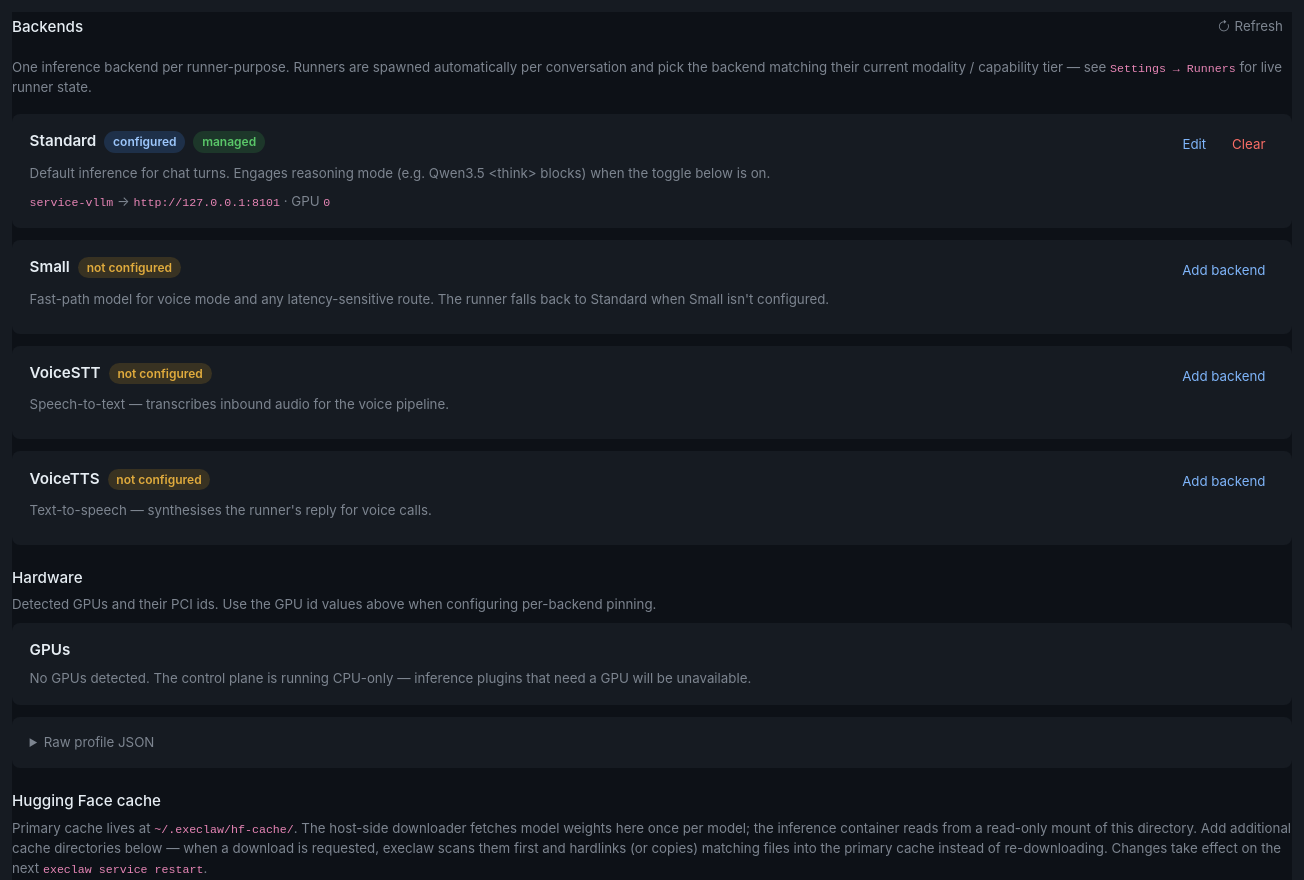
BackendsPage › editing an already-configured row goes straight to the raw form
Check: the text "managed" is shown, box [193,131,265,153]
# Click Edit on the configured Standard row.
Click the button with test id "backend-edit" showing "Edit".
click(1194, 145)  # box [1173,130,1215,160]
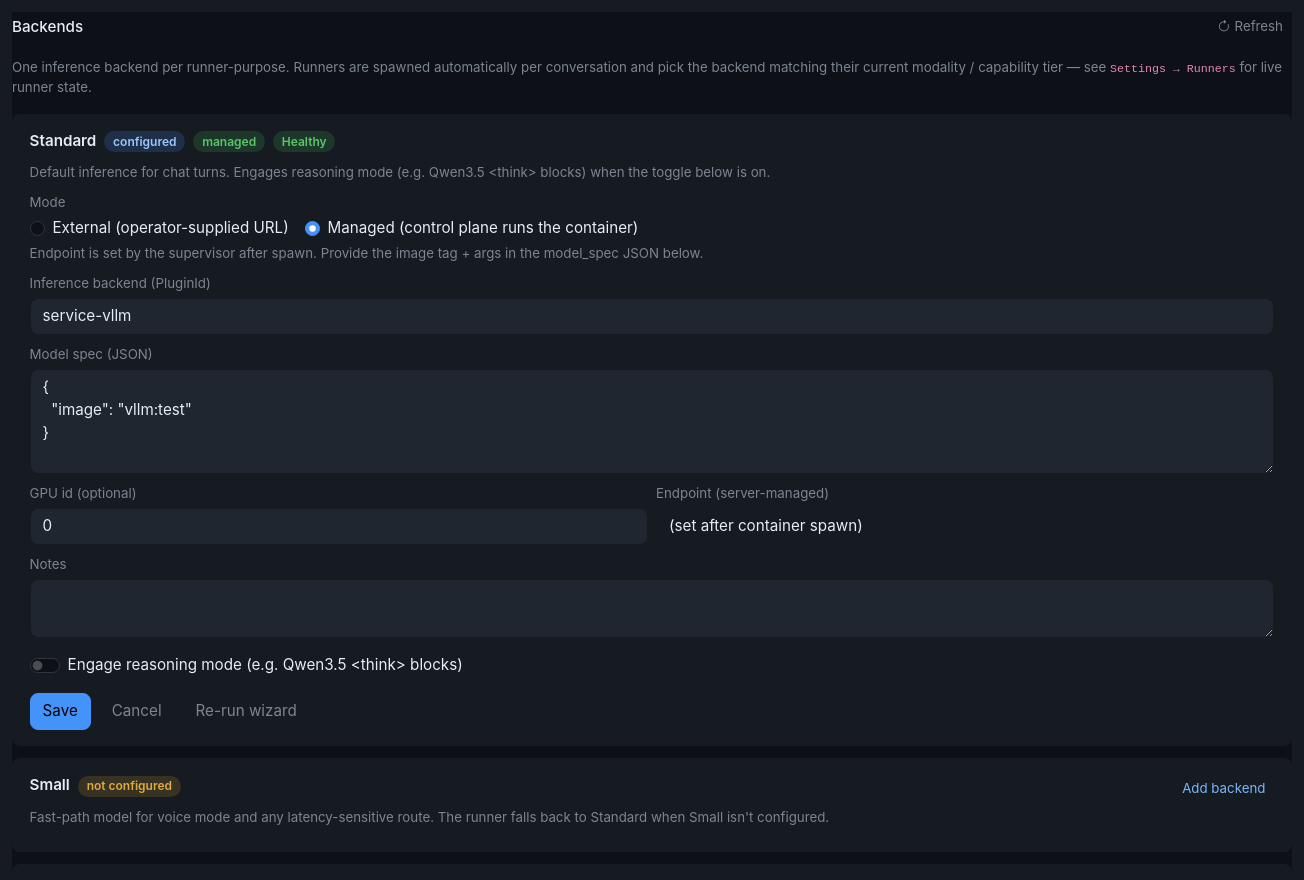
Check: the element with test id "backend-form" is shown, box [30,191,1274,730]
Check: the button with test id "backend-form-rerun-wizard" is shown, box [183,693,310,730]
